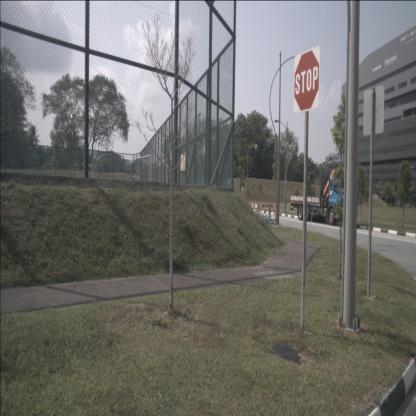movable_object-trafficcone: (268, 202, 272, 221), (256, 203, 260, 219)
vehicle-truck: (289, 170, 358, 226)
